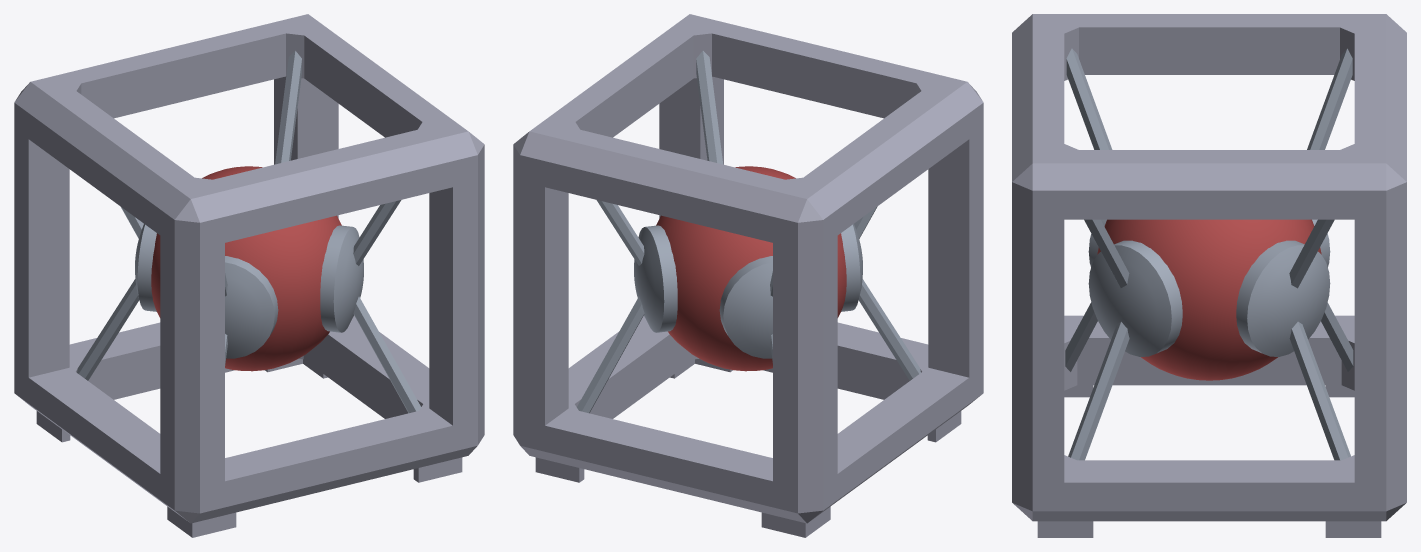
File: Sphere_002_geometry-panic-factory.fbx
The picture shows the model from 3 angles, left to right: view 1: azimuth 30°, elevation 25°; view 2: azimuth 150°, elevation 25°; view 3: azimuth 270°, elevation 25°; orthographic projection. The views are drawn at different scales.
Parts seen in each view (by area): view 1: Sphere.002.geometry-panic-factory; view 2: Sphere.002.geometry-panic-factory; view 3: Sphere.002.geometry-panic-factory.
Boxes of the visible parts, left/top/right/bottom form: Sphere.002.geometry-panic-factory: left=14, top=14, right=484, bottom=537; Sphere.002.geometry-panic-factory: left=513, top=14, right=983, bottom=537; Sphere.002.geometry-panic-factory: left=1012, top=14, right=1406, bottom=537.
Size of the model in its own units: 0.95 by 1 by 0.95.
